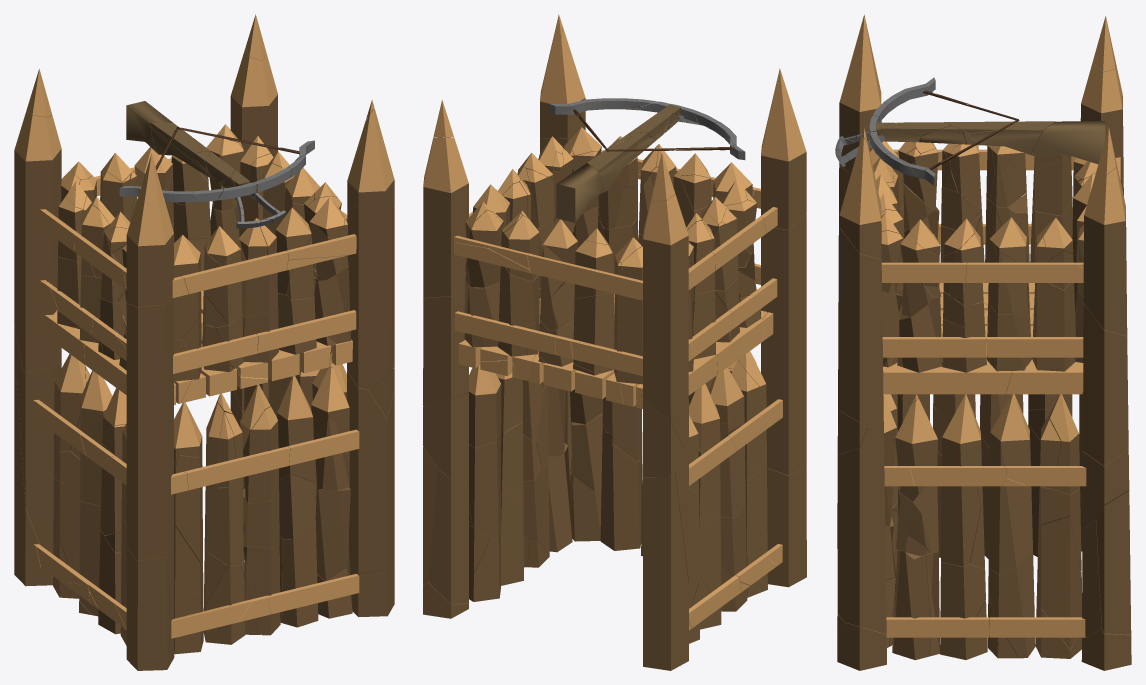
File: woodTowerFractured.fbx
3 renders of one model, left to right at view 1: azimuth 30°, elevation 25°; view 2: azimuth 150°, elevation 25°; view 3: azimuth 270°, elevation 25°, orthographic. The views are drawn at different scales.
Visible parts, largest first — view 1: Cone365_cell.002, Cone364_cell.004, Cone337_cell.006, Cone337_cell, Cone365_cell.003, Cone365_cell, Cone364_cell.005, Cone348_cell.003, Cone337_cell.005, Cone245_cell.009, Cone249_cell.005, Cone364_cell.001 (+80 smaller); view 2: Cone364_cell.004, Cone365_cell.002, Cone364_cell.001, Cone348_cell.003, Cone365_cell, Cone348_cell.006, Cone348_cell.001, Cone365_cell.003, Cone248_cell.001, Cone348_cell.005, Cone337_cell.005, Cone338_cell.001 (+74 smaller); view 3: Cone337_cell.006, Cone337_cell, Cone348_cell.003, Cone348_cell.001, Cone348_cell, Cone340_cell.004, Cone365_cell, Cone337_cell.005, Box071_cell.002, Cone338_cell.006, Cone341_cell.004, Cone340_cell.006 (+75 smaller).
Boxes of the visible parts, x1,y1,x2,y2 form: Cone365_cell.002: (126, 298, 174, 560); Cone364_cell.004: (14, 111, 61, 371); Cone337_cell.006: (347, 370, 394, 574); Cone337_cell: (347, 202, 394, 389); Cone365_cell.003: (126, 541, 174, 670); Cone365_cell: (126, 153, 173, 307); Cone364_cell.005: (17, 365, 60, 576); Cone348_cell.003: (230, 47, 277, 156); Cone337_cell.005: (347, 108, 394, 210); Cone245_cell.009: (204, 477, 243, 566); Cone249_cell.005: (315, 487, 350, 581); Cone364_cell.001: (14, 380, 52, 586); Cone364_cell.004: (643, 194, 688, 449); Cone365_cell.002: (761, 213, 806, 475); Cone364_cell.001: (643, 473, 688, 670); Cone348_cell.003: (423, 137, 468, 297); Cone365_cell: (761, 68, 806, 229); Cone348_cell.006: (428, 468, 468, 603); Cone348_cell.001: (423, 273, 468, 406); Cone365_cell.003: (767, 467, 806, 587); Cone248_cell.001: (600, 425, 641, 550); Cone348_cell.005: (423, 393, 468, 487); Cone337_cell.005: (540, 26, 585, 138); Cone338_cell.001: (469, 425, 501, 539); Cone337_cell.006: (837, 420, 886, 633); Cone337_cell: (838, 227, 883, 427); Cone348_cell.003: (1083, 161, 1127, 335); Cone348_cell.001: (1083, 303, 1128, 466); Cone348_cell: (1096, 490, 1131, 634); Cone340_cell.004: (988, 486, 1032, 574); Cone365_cell: (839, 14, 881, 173); Cone337_cell.005: (839, 137, 881, 259); Box071_cell.002: (883, 359, 1011, 394); Cone338_cell.006: (1037, 516, 1079, 609); Cone341_cell.004: (941, 486, 980, 566); Cone340_cell.006: (988, 551, 1035, 658).
Size of the model in its own units: 169 by 315 by 158.
